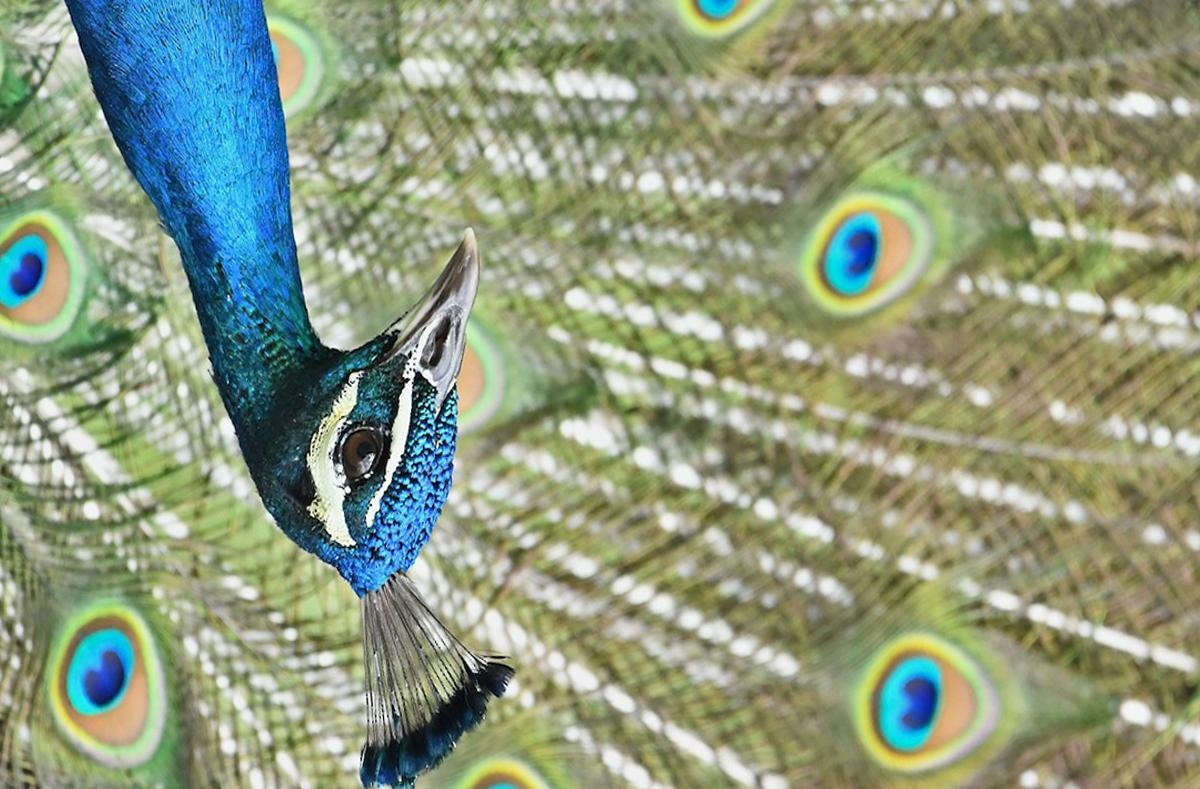peacock: (19, 11, 926, 780)
